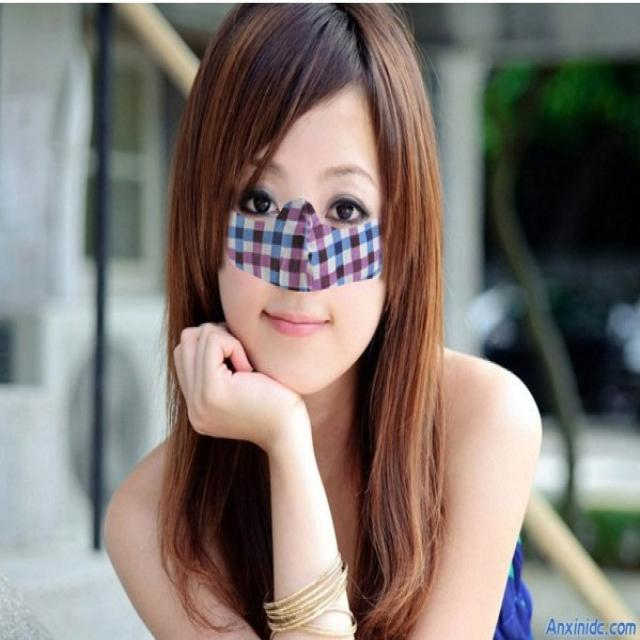mask: (218, 82, 387, 391)
